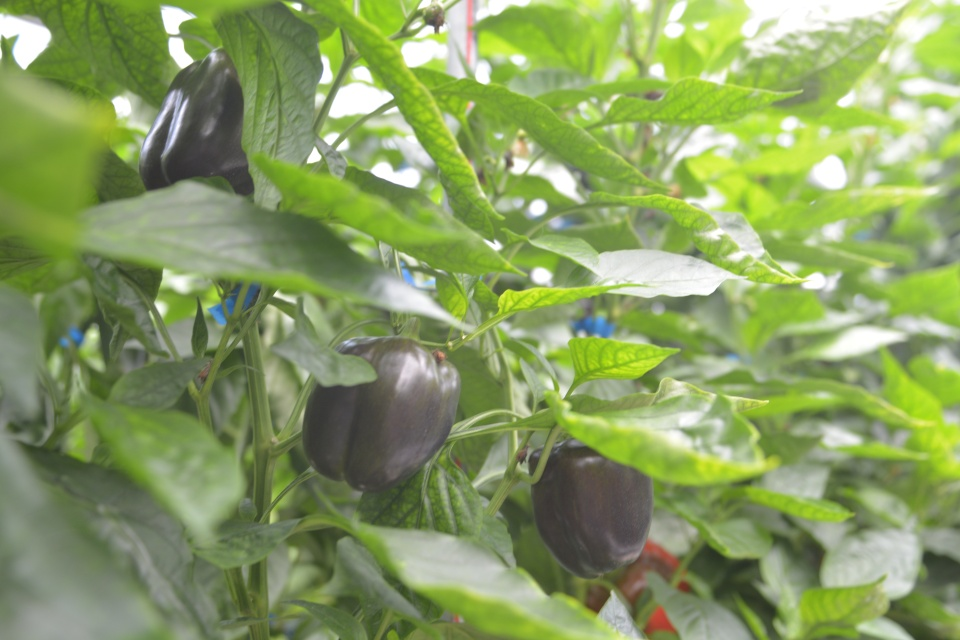fruit: (300, 332, 463, 496), (524, 435, 655, 580), (136, 44, 256, 196), (586, 536, 694, 640)
immature: (423, 2, 449, 35)
